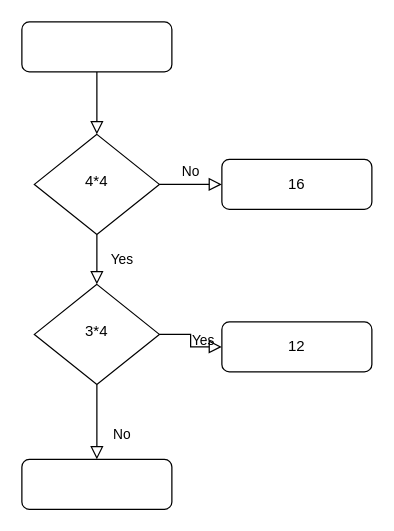
This 394x531 diagram has some shape labels left out. The shapes that lost their labels are listed below. From the top down, each one's centre as x and y in pixels, then its label:
At (96,46): "inicio".
At (96,483): "final".
